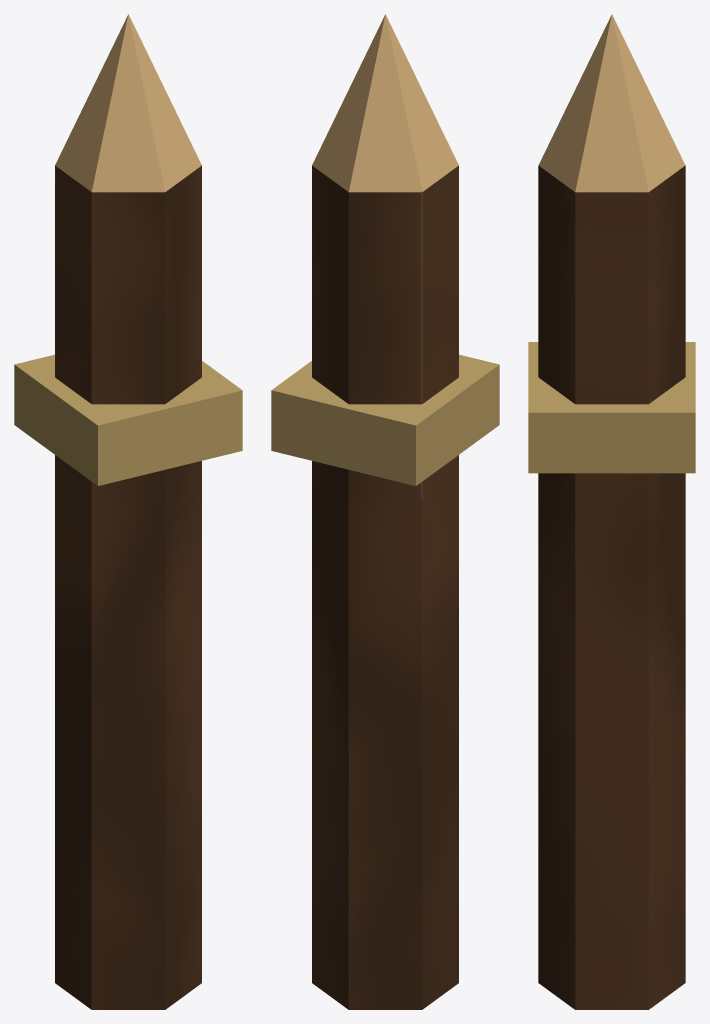
The model's file is fort_l1_post.glb.
3 views of the same model, side by side, from view 1: azimuth 30°, elevation 25°; view 2: azimuth 150°, elevation 25°; view 3: azimuth 270°, elevation 25° (orthographic).
Visible parts, largest first — view 1: fort_l1_post; view 2: fort_l1_post; view 3: fort_l1_post.
Boxes of the visible parts, bbox=[...] form: fort_l1_post: bbox=[14, 14, 242, 1009]; fort_l1_post: bbox=[271, 14, 499, 1009]; fort_l1_post: bbox=[528, 14, 695, 1009].
Size of the model in its own units: 0.05 by 0.32 by 0.05.
1 material, 1 textured.
